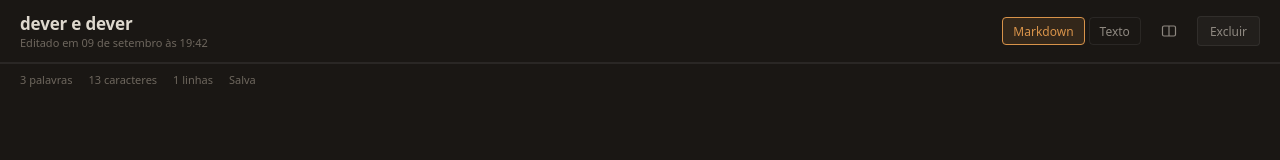
Scenario: busca dentro da nota › Enter anda para a próxima e Shift+Enter volta, dando a volta no fim
The image size is (1280, 160).
Type keys "{Control>}f{/Control}"
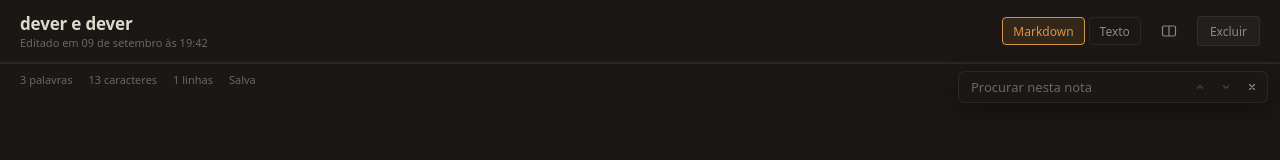
In the search field labelled "Procurar nesta nota": (1049, 87) [969,77,1129,97], type "dever"
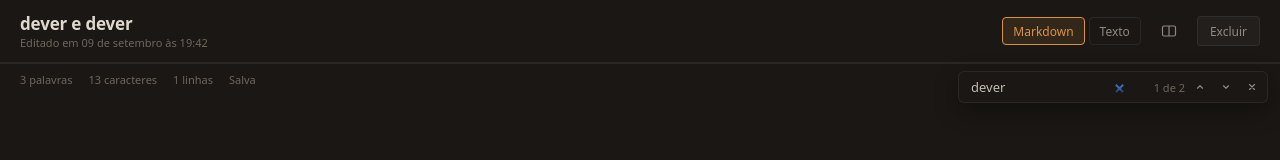
Press Enter
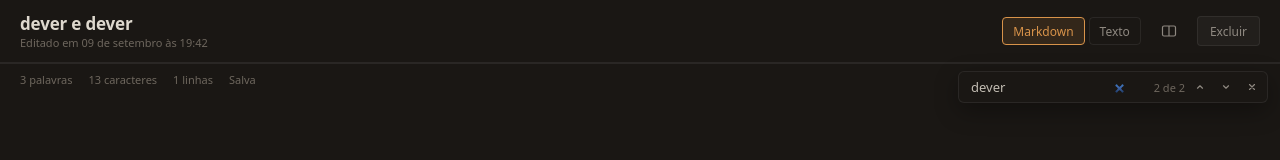
Expected: the text "2 de 2" is shown, [1154,80,1185,94]
Press Enter
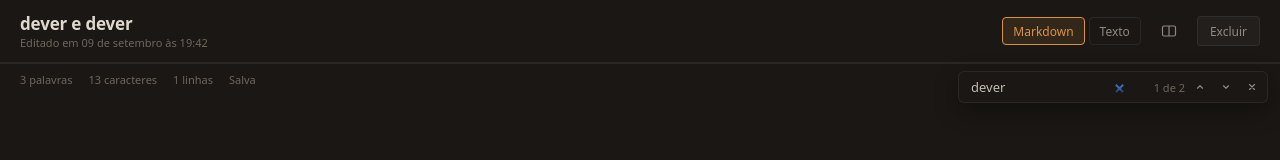
Expected: the text "1 de 2" is shown, [1154,80,1185,94]
Type keys "{Shift>}{Enter}{/Shift}"
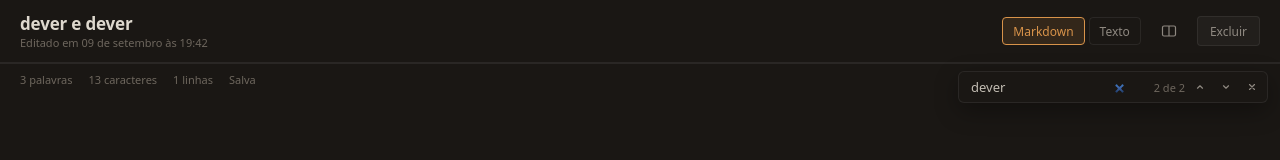
Expected: the text "2 de 2" is shown, [1154,80,1185,94]
